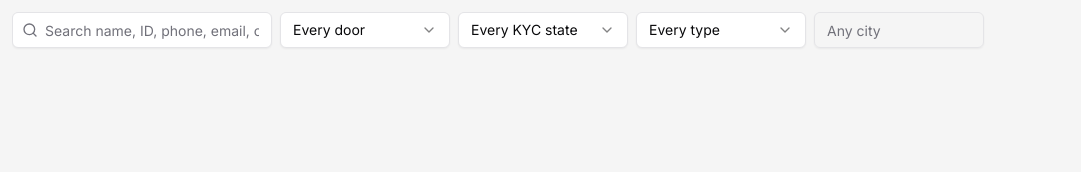
Test: the party rosters' filter bar › offers Clear only while a filter is set
This screenshot has width=1081, height=172.
expect the button "clear" is not shown: met
Type "suraj" into the field labelled "Search" at x=142, y=30, box [12,12,272,48]
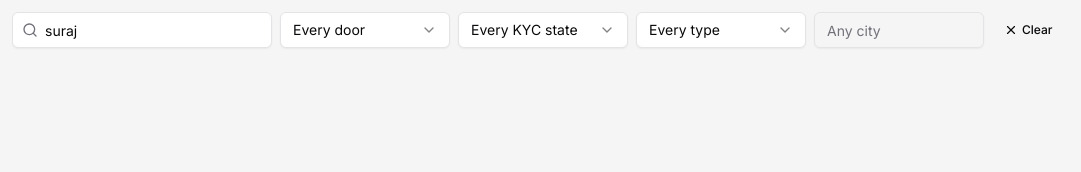
Click the button "Clear" at x=1028, y=30, box [992,12,1064,48]
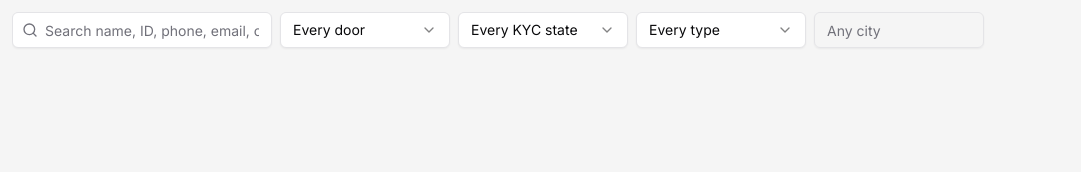
expect the field labelled "Search" is empty: met, box [12,12,272,48]
